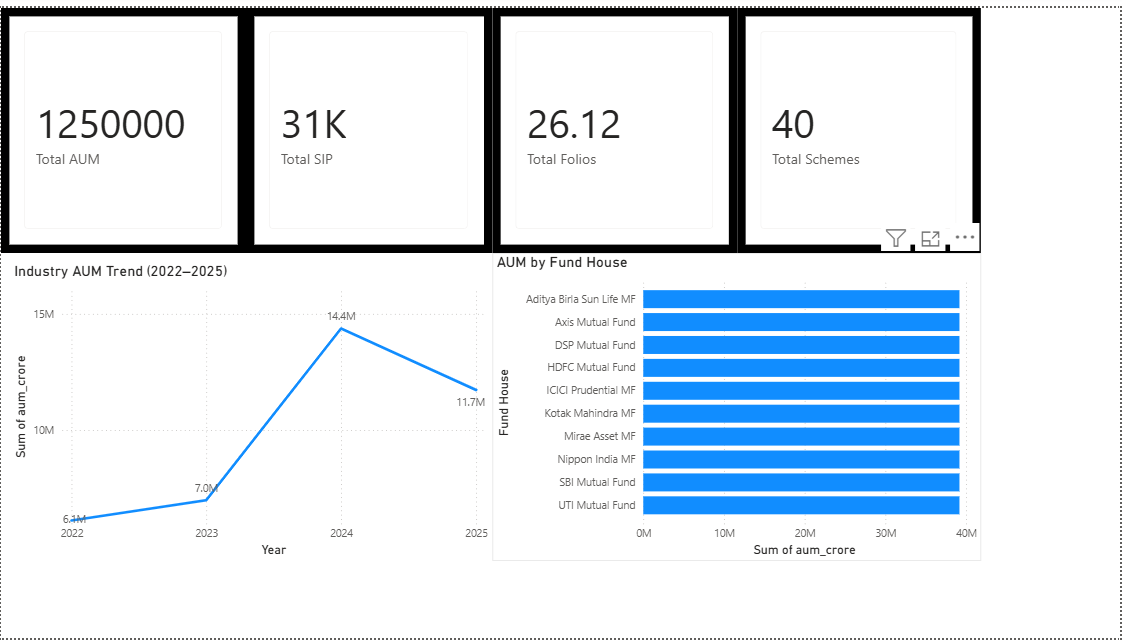

This screenshot's page, from the dashboard's own definition file:
{"tool":"powerbi","page":{"name":"Industry Overview","canvas":[1280,720],"ordinal":0},"visuals":[{"type":"cardVisual","fields":{"Data":["fund_master_clean.Total AUM"]},"box":[0,0,280,280],"z":0},{"type":"cardVisual","fields":{"Data":["alpha_beta.Total Folios"]},"box":[561.2,0,280,280],"z":1000},{"type":"cardVisual","fields":{"Data":["alpha_beta.Total Schemes"]},"box":[841.2,0,278.8,280],"z":2000},{"type":"cardVisual","fields":{"Data":["alpha_beta.Total SIP"]},"box":[280,0,281.2,280],"z":3000},{"type":"lineChart","title":"Industry AUM Trend (2022–2025)","fields":{"Category":["aum_clean.date.Variation.Date Hierarchy.Year","aum_clean.date.Variation.Date Hierarchy.Quarter","aum_clean.date.Variation.Date Hierarchy.Month","aum_clean.date.Variation.Date Hierarchy.Day"],"Y":["Sum(aum_clean.aum_crore)"]},"box":[10,290,551.2,342.5],"z":4000},{"type":"clusteredBarChart","title":"AUM by Fund House","fields":{"Y":["Sum(aum_clean.aum_crore)"],"Category":["fund_master_clean.fund_house"]},"box":[561.2,280,558.8,352.5],"z":5000}]}

Visuals, with their boxes in screenshot pixels (x1, y1, x2, y2), scaled from the page's 1280x720 canvas onto the 1122x641 screenshot:
cardVisual - fund_master_clean.Total AUM: crop(0, 0, 245, 249)
cardVisual - alpha_beta.Total Folios: crop(492, 0, 737, 249)
cardVisual - alpha_beta.Total Schemes: crop(737, 0, 982, 249)
cardVisual - alpha_beta.Total SIP: crop(245, 0, 492, 249)
"Industry AUM Trend (2022–2025)" lineChart: crop(9, 258, 492, 563)
"AUM by Fund House" clusteredBarChart: crop(492, 249, 982, 563)
